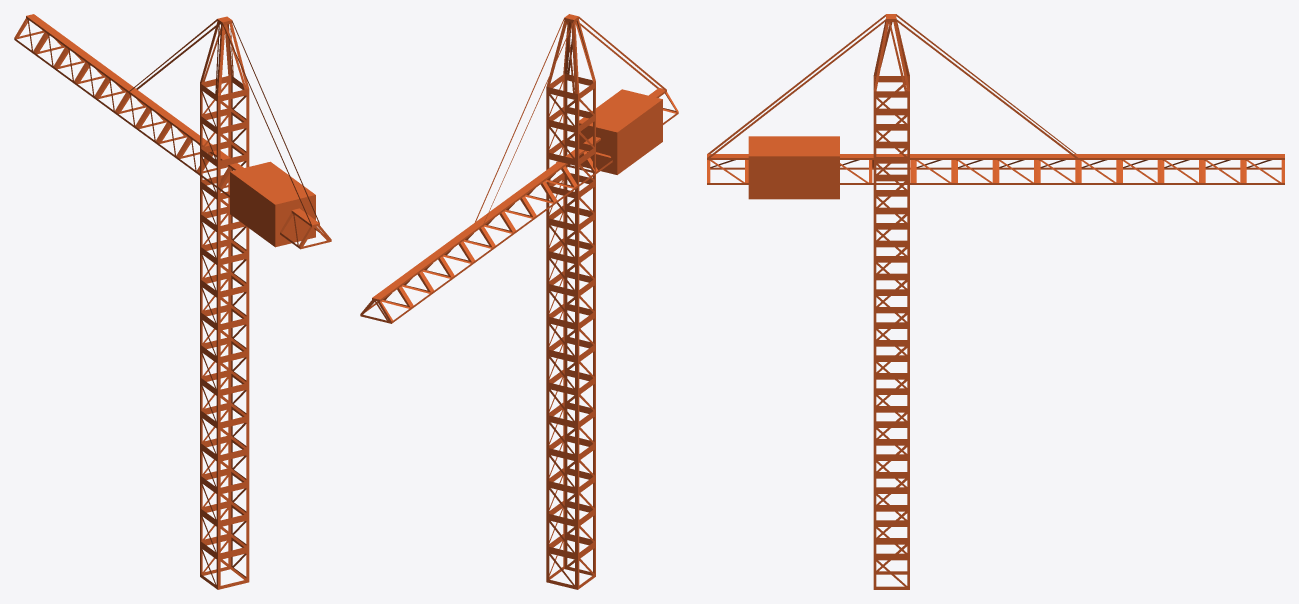
The model's file is Crane_01.fbx.
3 renders of one model, left to right at view 1: azimuth 30°, elevation 25°; view 2: azimuth 150°, elevation 25°; view 3: azimuth 270°, elevation 25°, orthographic.
Visible parts, largest first — view 1: Cube; view 2: Cube; view 3: Cube.
Part boxes in pixels (left/top/right/bottom): Cube: left=14, top=14, right=331, bottom=589; Cube: left=360, top=14, right=678, bottom=589; Cube: left=707, top=14, right=1284, bottom=589.
Bounding box in the file's own units: 260 × 3425 × 3169.
